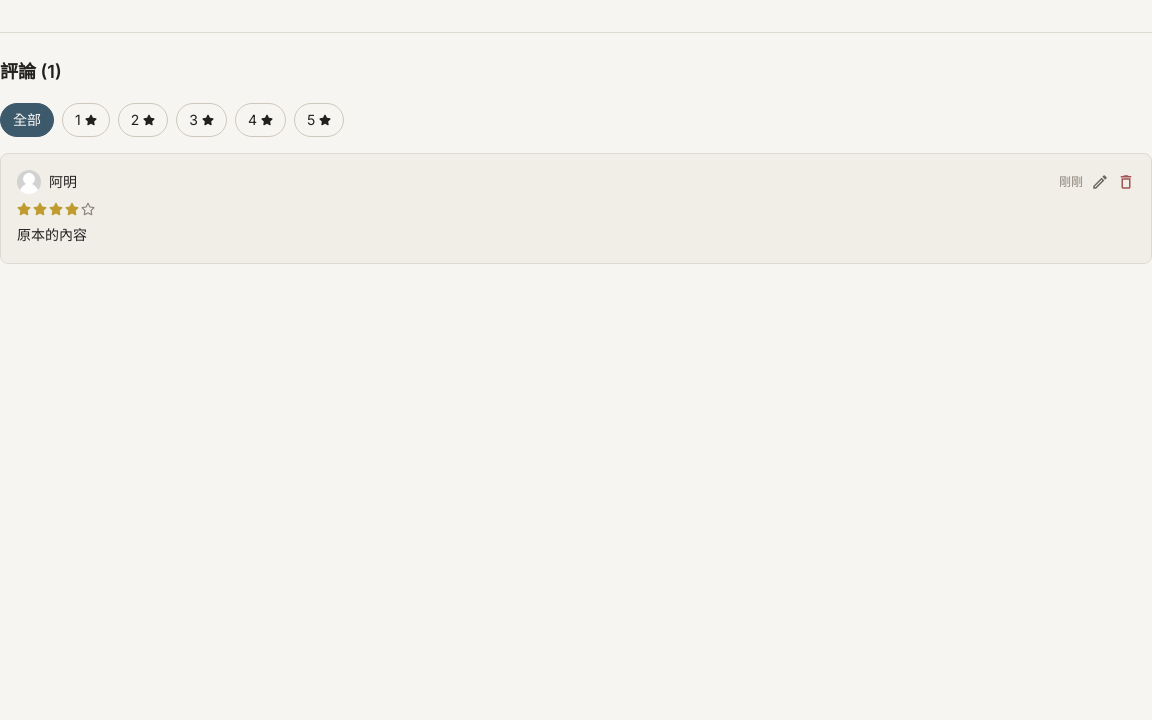
Test case: CommentSection 編輯評論 › 確認後送出修改並退出編輯模式
The width and height of the screenshot is (1152, 720).
Step 1. Click the button named "編輯評論" → (1100,182), box [1091,173,1109,191]
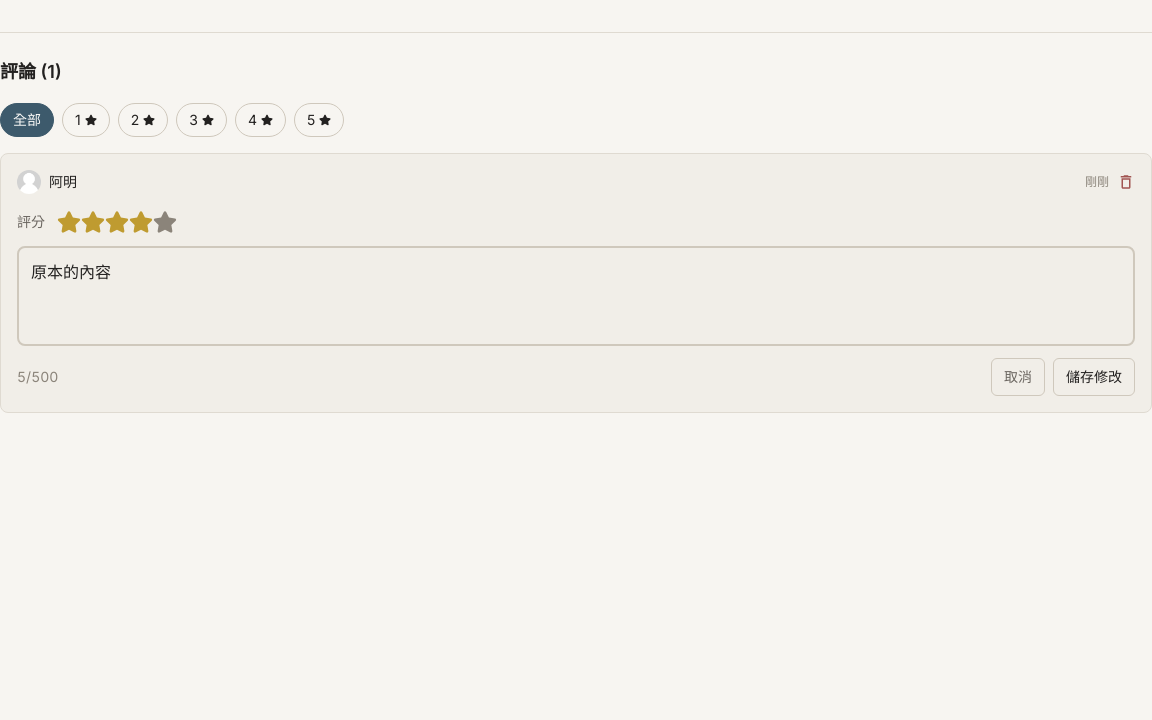
Step 2. Replace the text in the text box named "評論內容" with "改過的內容" → (576,296), box [17,246,1135,346]
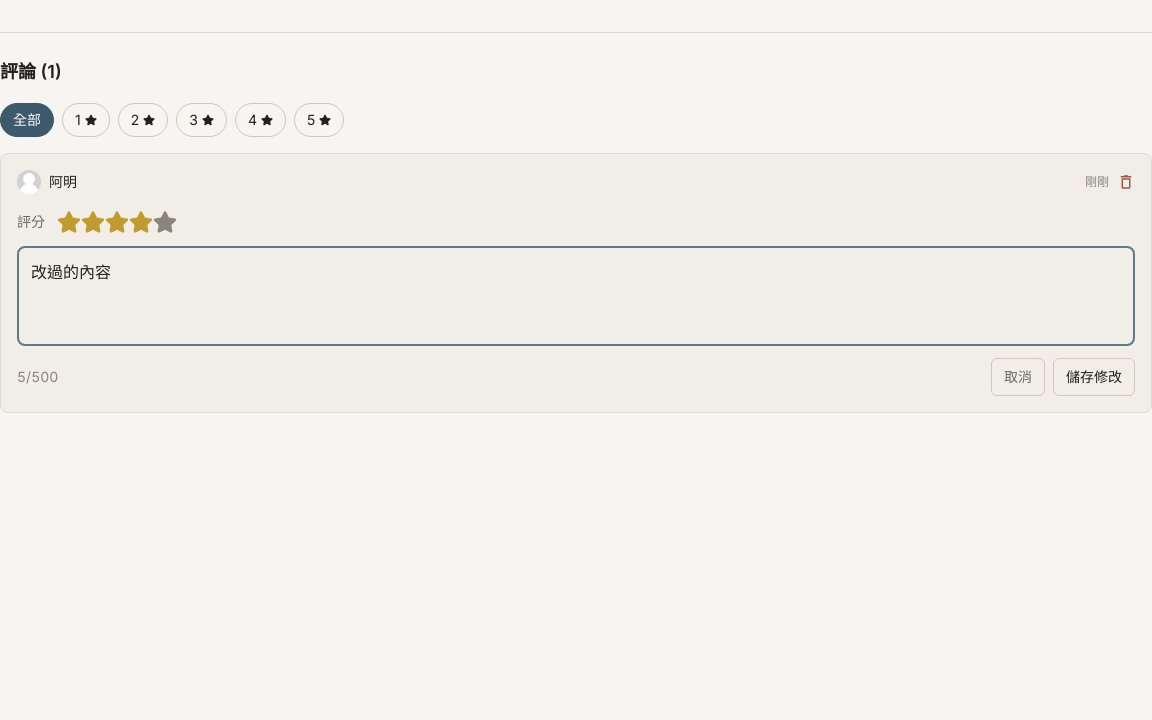
Step 3. Click the button "儲存修改" → (1094,377), box [1053,358,1135,396]
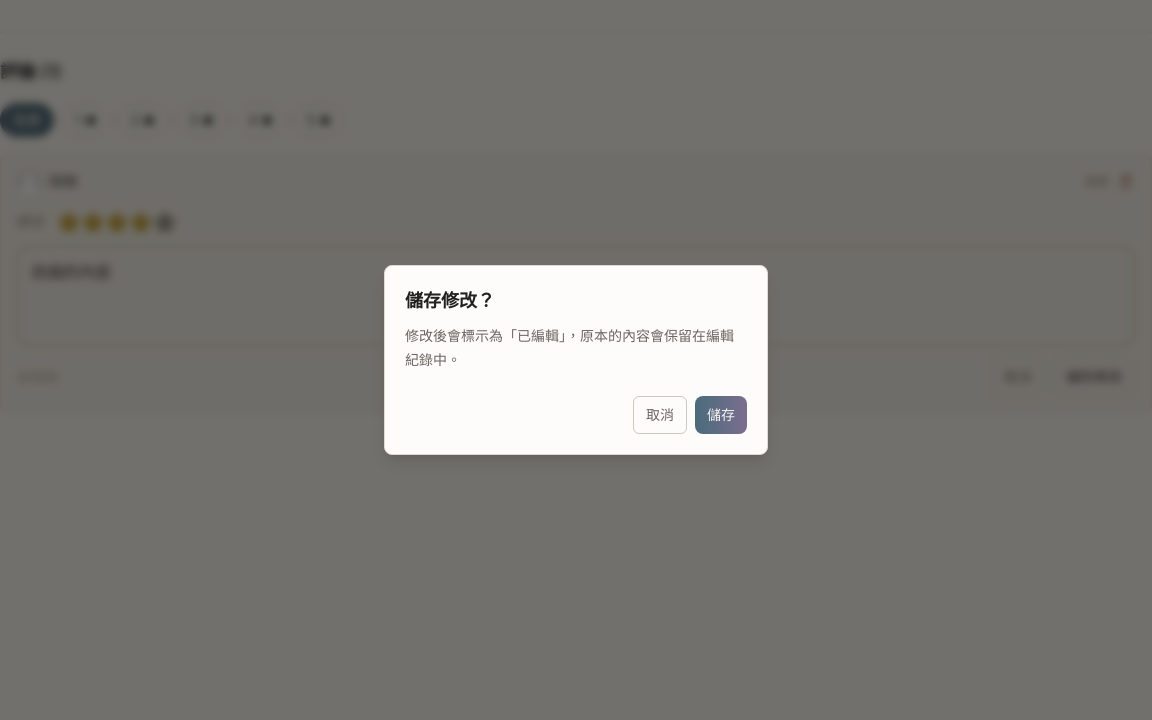
Step 4. Click the button "儲存" → (721,415), box [695,396,747,434]
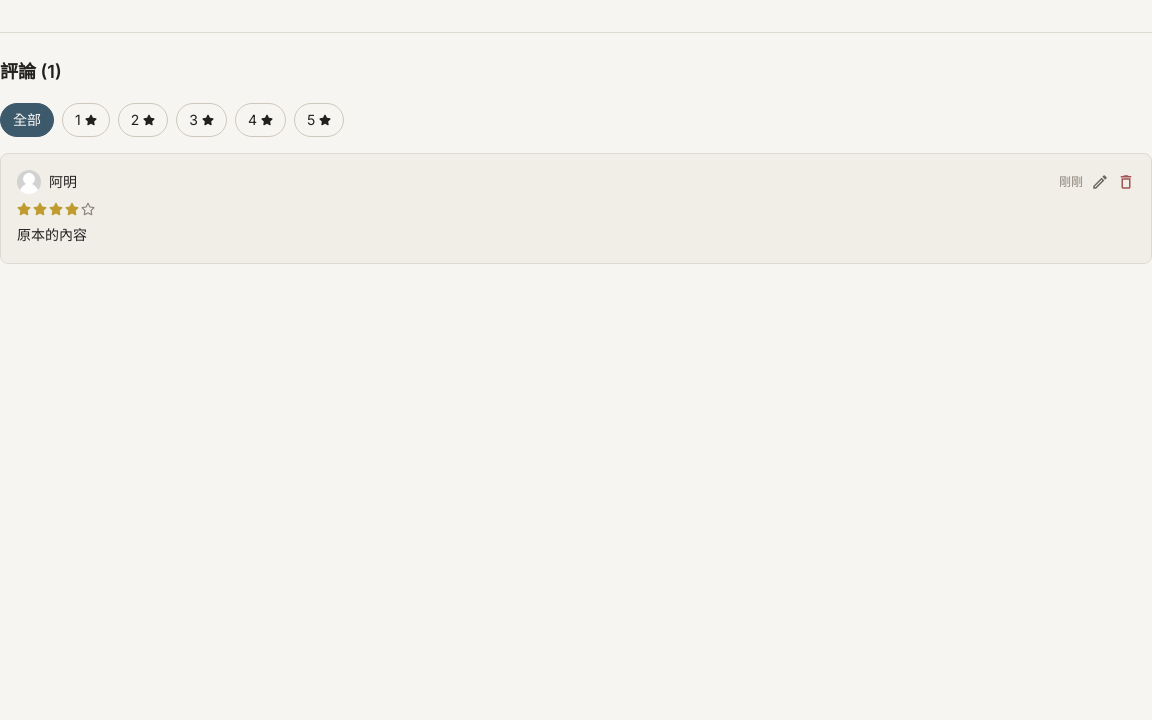
Expected: the button "儲存修改" is gone
